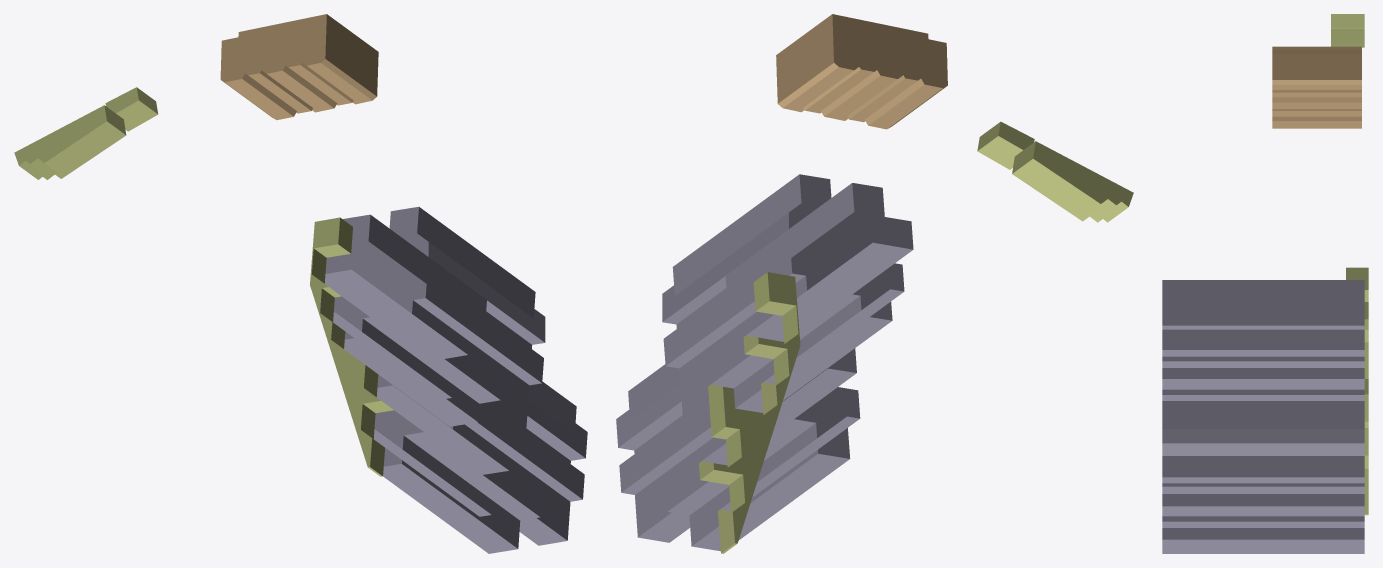
3 renders of one model, left to right at view 1: azimuth 30°, elevation 25°; view 2: azimuth 150°, elevation 25°; view 3: azimuth 270°, elevation 25°, orthographic. The views are drawn at different scales.
Parts seen in each view (by area): view 1: 0_1_3_2_1_1_2; view 2: 0_1_3_2_1_1_2; view 3: 0_1_3_2_1_1_2.
Boxes of the visible parts, x1,y1,x2,y2 form: 0_1_3_2_1_1_2: [14, 14, 587, 553]; 0_1_3_2_1_1_2: [616, 14, 1133, 553]; 0_1_3_2_1_1_2: [1162, 14, 1368, 553].
Bounding box in the file's own units: 122 × 122 × 55.06.
